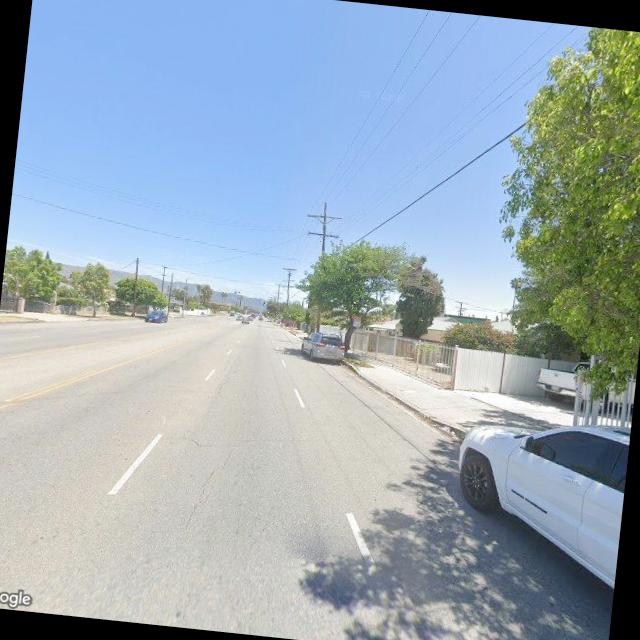crack: (178, 442, 231, 538)
